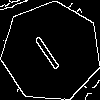I: (26, 26, 63, 71)
